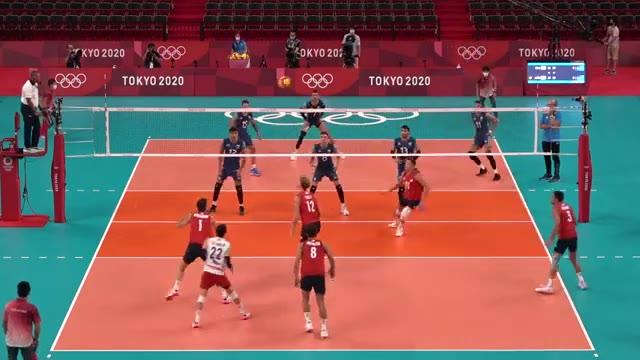ball: (274, 76, 293, 88)
